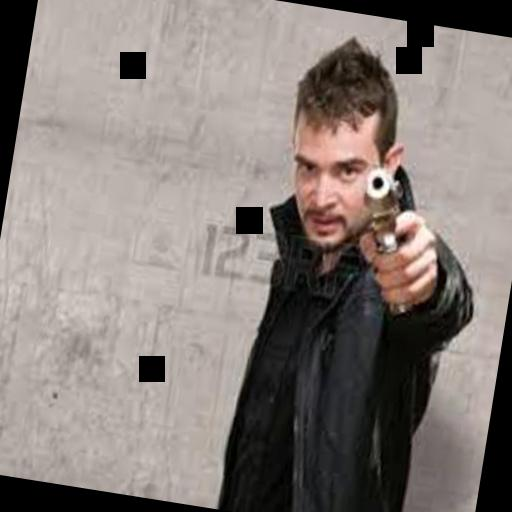Handgun: (346, 162, 432, 316)
